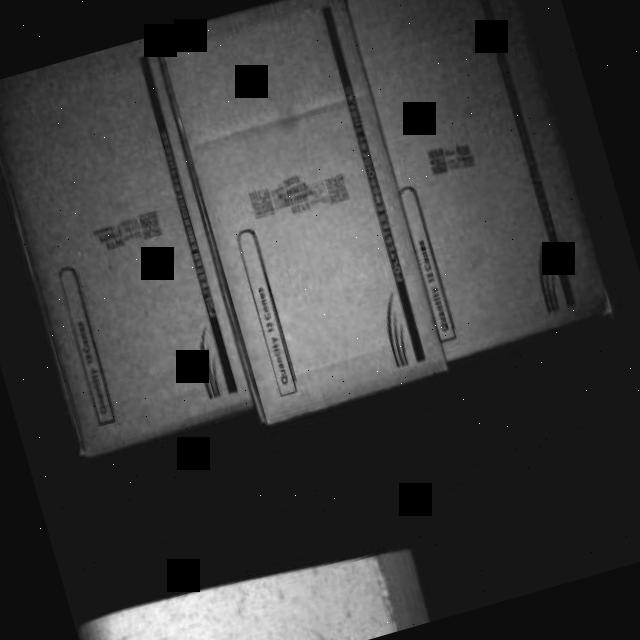box: (152, 0, 455, 424), (0, 35, 260, 457), (344, 0, 610, 356)
